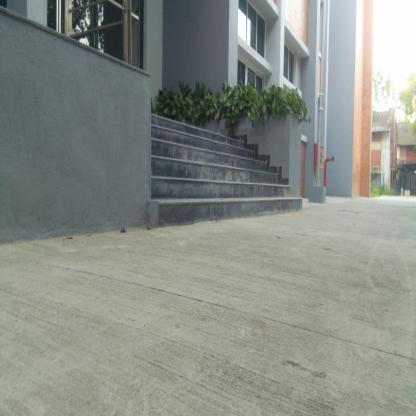stairs: (156, 141, 241, 226)
